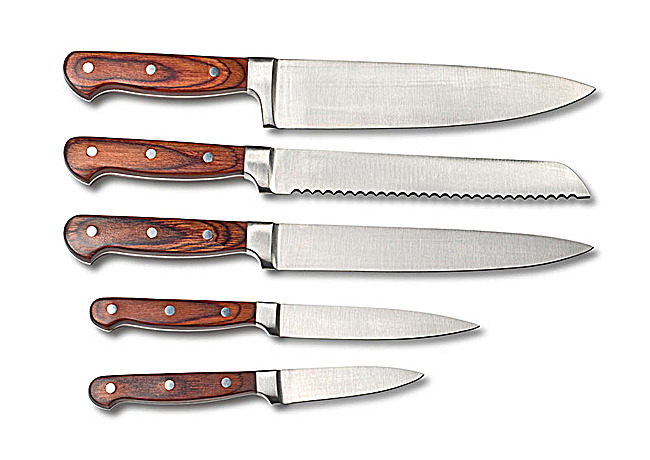knief: (56, 33, 601, 134)
